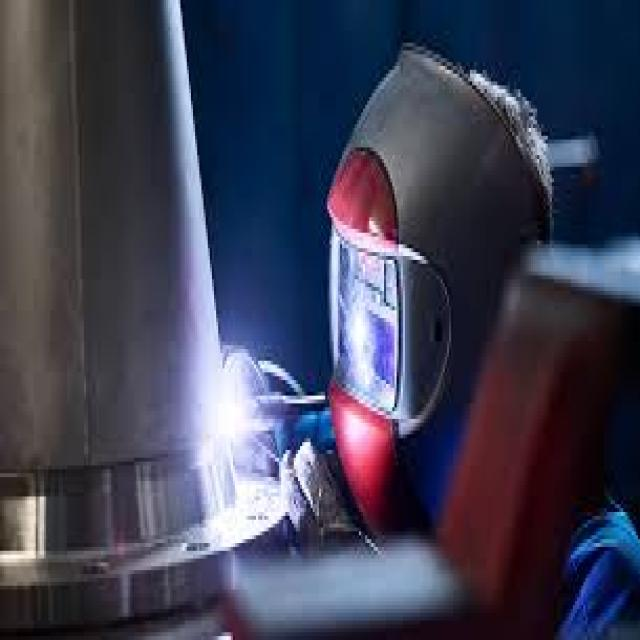welding: (210, 371, 245, 456)
